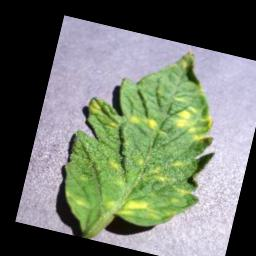Leaf_Mold: (171, 102, 220, 145), (102, 190, 161, 224), (127, 111, 160, 131), (86, 99, 103, 116), (108, 159, 122, 170), (106, 119, 119, 129)
